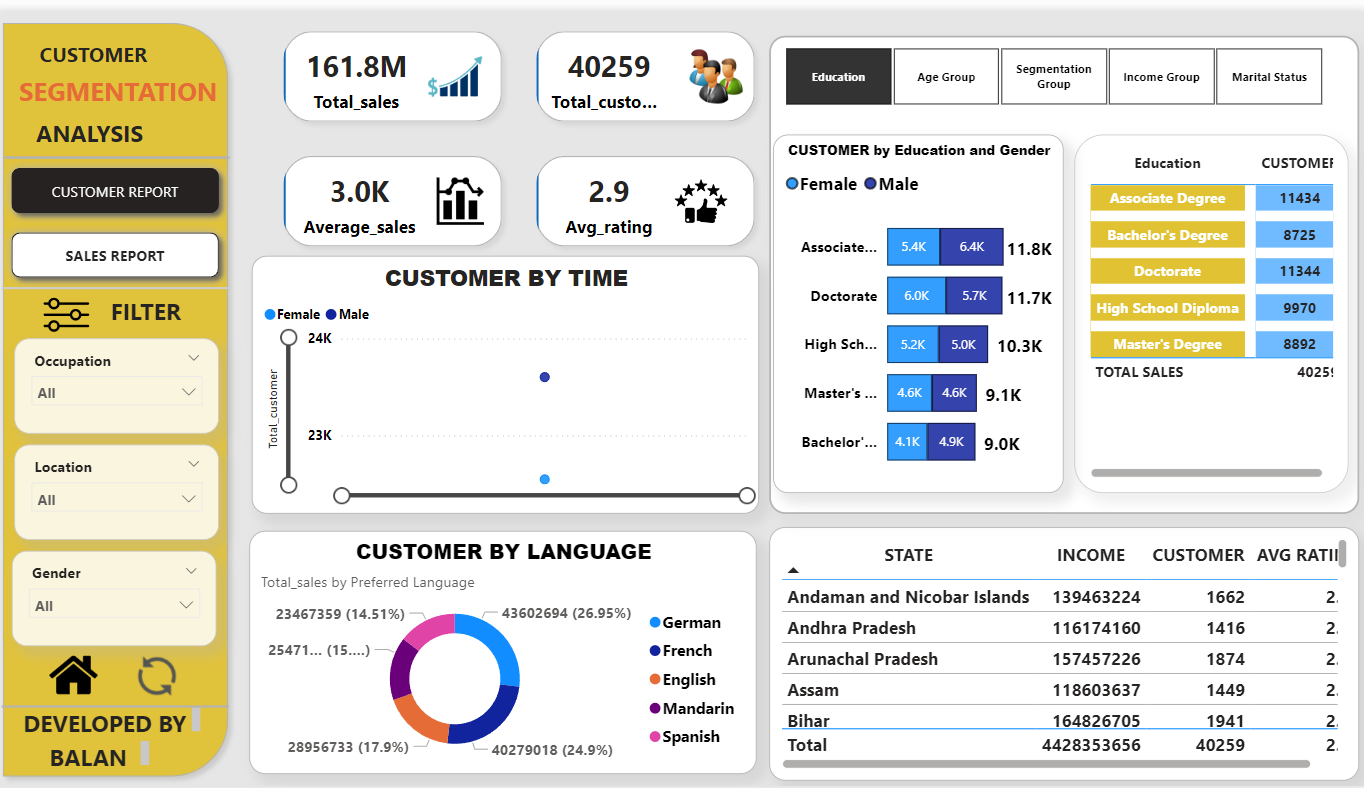

This screenshot's page, from the dashboard's own definition file:
{"tool":"powerbi","page":{"name":"CUSTOMER REPORT","canvas":[1280,720],"ordinal":0},"visuals":[{"type":"shape","box":[0,1.4,227.8,719],"z":0},{"type":"cardVisual","fields":{"Data":["customer_dataSet.Total_sales","customer_dataSet.Total_customer","customer_dataSet.Average_sales","customer_dataSet.Avg_rating"]},"box":[253.9,1.4,472,234.6],"z":1000},{"type":"scatterChart","title":"CUSTOMER BY TIME","fields":{"Series":["customer_dataSet.Gender"],"Category":["Data Table.Date.Variation.Date Hierarchy.Year","Data Table.Date.Variation.Date Hierarchy.Quarter","Data Table.Date.Variation.Date Hierarchy.Month","Data Table.Date.Variation.Date Hierarchy.Day"],"Y":["customer_dataSet.Total_customer"]},"box":[240.1,226.4,472,240.1],"z":2000},{"type":"donutChart","title":"CUSTOMER BY LANGUAGE","fields":{"Category":["customer_dataSet.Preferred Language"],"Y":["customer_dataSet.Total_sales"]},"box":[238.8,483,472,226.4],"z":3000},{"type":"tableEx","fields":{"Values":["customer_dataSet.location","Sum(customer_dataSet.Income Level)","customer_dataSet.Total_customer","customer_dataSet.Avg_rating"]},"box":[721.8,478.9,548.9,236],"z":4000},{"type":"shape","box":[721.8,22,548.9,444.6],"z":5000},{"type":"slicer","fields":{"Values":["Parameter.Parameter"]},"box":[711.8,26.5,548.9,66.4],"z":6000},{"type":"barChart","fields":{"Category":["customer_dataSet.Education Level"],"Series":["customer_dataSet.Gender"],"Y":["customer_dataSet.Total_customer"]},"box":[725.9,113.9,270.3,333.4],"z":7000},{"type":"tableEx","fields":{"Values":["customer_dataSet.Education Level","customer_dataSet.Total_customer"]},"box":[1005.8,113.9,255.2,333.4],"z":8000},{"type":"slicer","fields":{"Values":["customer_dataSet.Occupation"]},"box":[19.2,303.3,190.7,89.2],"z":9000},{"type":"slicer","fields":{"Values":["customer_dataSet.location"]},"box":[19.2,402.1,190.7,89.2],"z":10000},{"type":"slicer","fields":{"Values":["customer_dataSet.Gender"]},"box":[17.8,500.9,190.7,89.2],"z":11000},{"type":"textbox","box":[104.3,258,107,45.3],"z":12000},{"type":"image","box":[30.2,249.7,75.5,63.1],"z":13000},{"type":"image","box":[48,590.1,54.9,54.9],"z":14000},{"type":"actionButton","box":[127.6,592.8,76.8,49.4],"z":15000},{"type":"textbox","box":[38.4,22,119.4,41.2],"z":16000},{"type":"textbox","box":[12.3,52.1,207.2,45.3],"z":17000},{"type":"textbox","box":[30.2,93.3,119.4,42.5],"z":18000},{"type":"textbox","box":[23.3,642.2,174.3,35.7],"z":19000},{"type":"textbox","box":[48,673.8,102.9,35.7],"z":20000},{"type":"shape","box":[11,86.4,207.2,98.8],"z":21000},{"type":"shape","box":[12.3,86.4,207.2,98.8],"z":22000},{"type":"shape","box":[8.2,576.3,211.3,138.6],"z":23000},{"type":"shape","box":[8.2,166,211.3,181.1],"z":24000},{"type":"pageNavigator","box":[8.2,135.8,211.3,120.8],"z":25000}]}

Visuals, with their boxes in screenshot pixels (x1, y1, x2, y2), scaled from the page's 1280x720 canvas onto the 1364x788 screenshot:
shape: (0, 2, 243, 787)
cardVisual - customer_dataSet.Total_sales x customer_dataSet.Total_customer: (271, 2, 774, 258)
"CUSTOMER BY TIME" scatterChart: (256, 248, 759, 511)
"CUSTOMER BY LANGUAGE" donutChart: (254, 529, 757, 776)
tableEx - customer_dataSet.location x Sum(customer_dataSet.Income Level): (769, 524, 1354, 782)
shape: (769, 24, 1354, 511)
slicer - Parameter.Parameter: (759, 29, 1343, 102)
barChart - customer_dataSet.Education Level x customer_dataSet.Gender: (774, 125, 1062, 490)
tableEx - customer_dataSet.Education Level x customer_dataSet.Total_customer: (1072, 125, 1344, 490)
slicer - customer_dataSet.Occupation: (20, 332, 224, 430)
slicer - customer_dataSet.location: (20, 440, 224, 538)
slicer - customer_dataSet.Gender: (19, 548, 222, 646)
textbox: (111, 282, 225, 332)
image: (32, 273, 113, 342)
image: (51, 646, 110, 706)
actionButton: (136, 649, 218, 703)
textbox: (41, 24, 168, 69)
textbox: (13, 57, 234, 107)
textbox: (32, 102, 159, 149)
textbox: (25, 703, 211, 742)
textbox: (51, 737, 161, 777)
shape: (12, 95, 233, 203)
shape: (13, 95, 234, 203)
shape: (9, 631, 234, 782)
shape: (9, 182, 234, 380)
pageNavigator: (9, 149, 234, 281)
